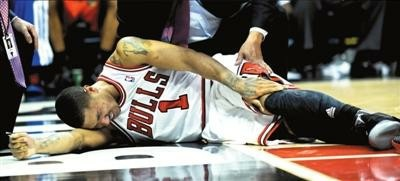falling: (1, 30, 400, 151)
